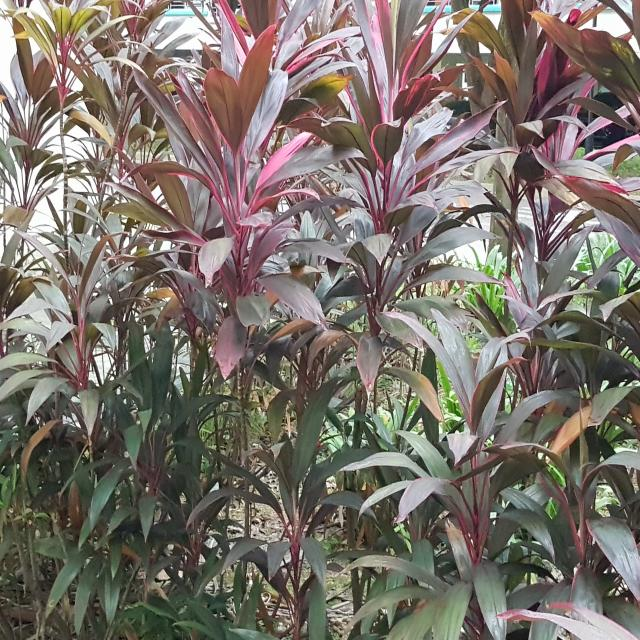Ti: (117, 45, 337, 395), (348, 332, 584, 629), (419, 0, 640, 251)
